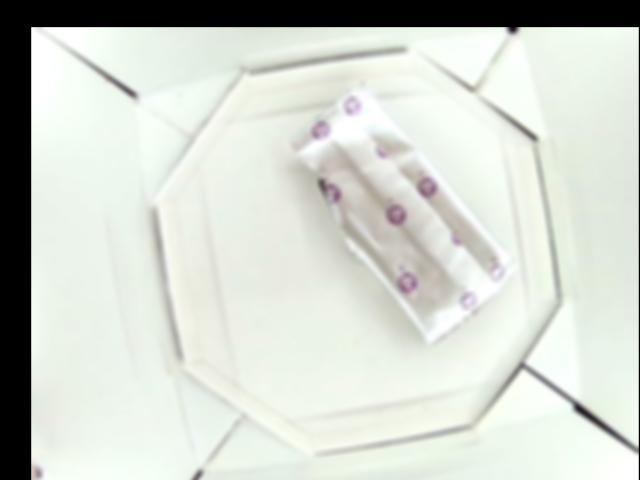Medicine: (291, 80, 517, 346)
